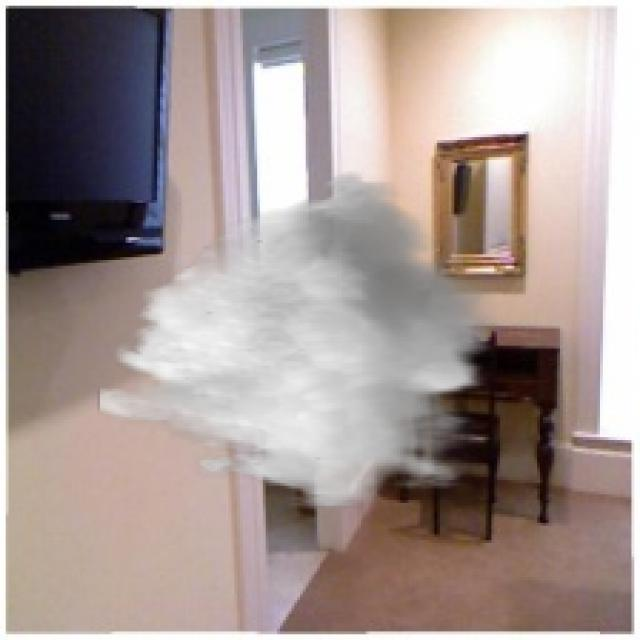smoke: (97, 166, 497, 508)
